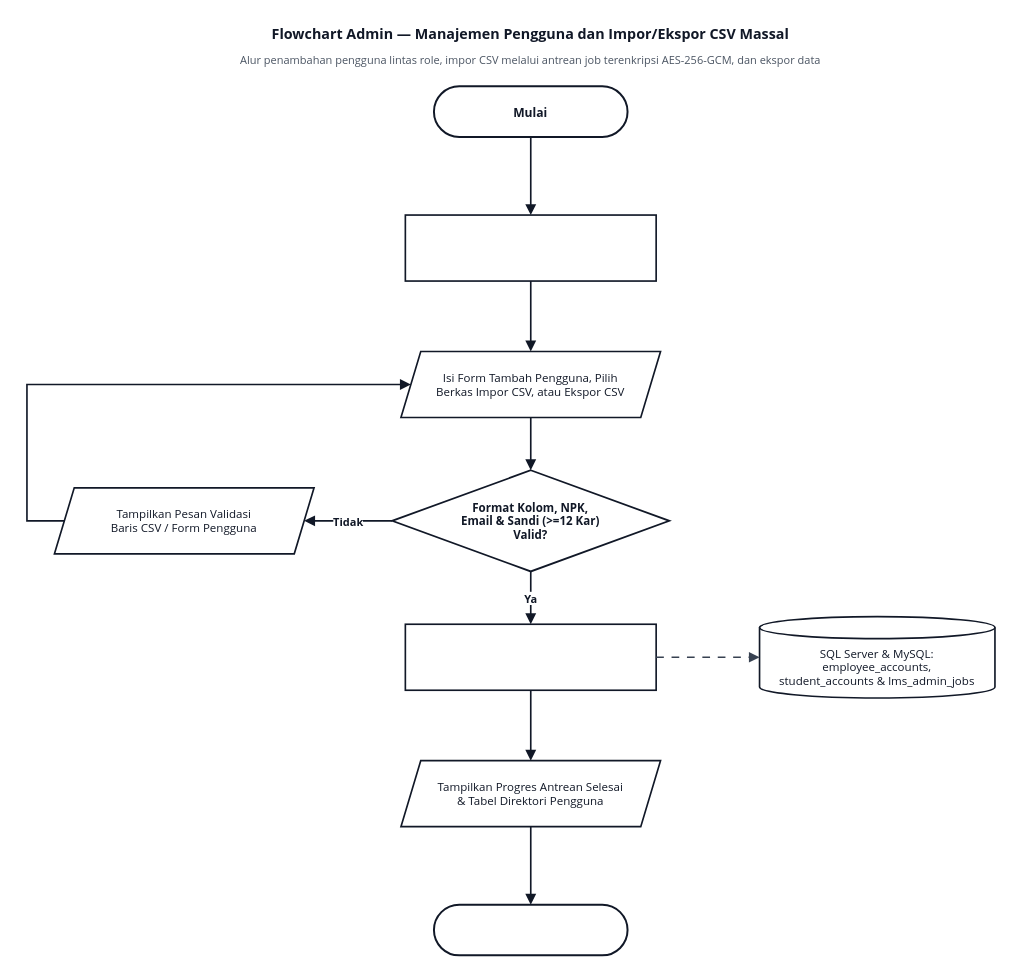
Some shapes in this 1015 by 975 pixel diagram are drawn without their labels. The centre of each missing label's shape, as x and y in pixels:
Buka Menu Kelola Pengguna pada Sidebar Admin: the point at 530,247
Enkripsi Payload Job (AES-256-GCM) & Buat/Perbarui Akun Lintas Database: the point at 530,657
Selesai: the point at 530,929
